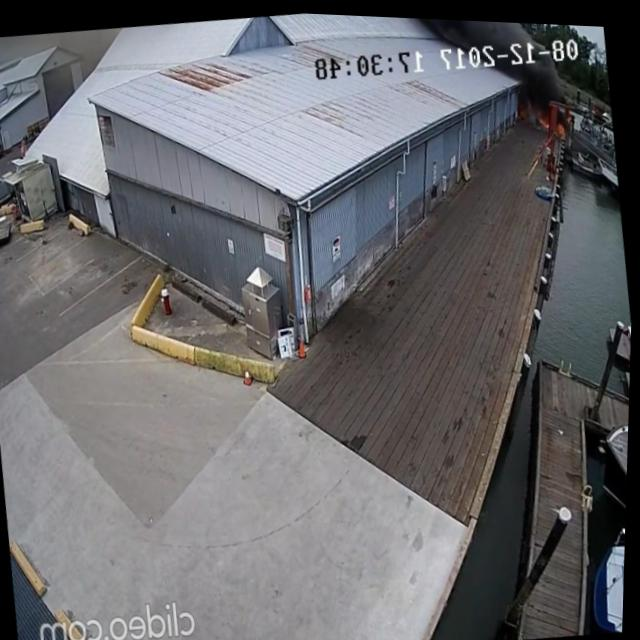fire: (536, 105, 551, 125), (556, 114, 567, 132)
